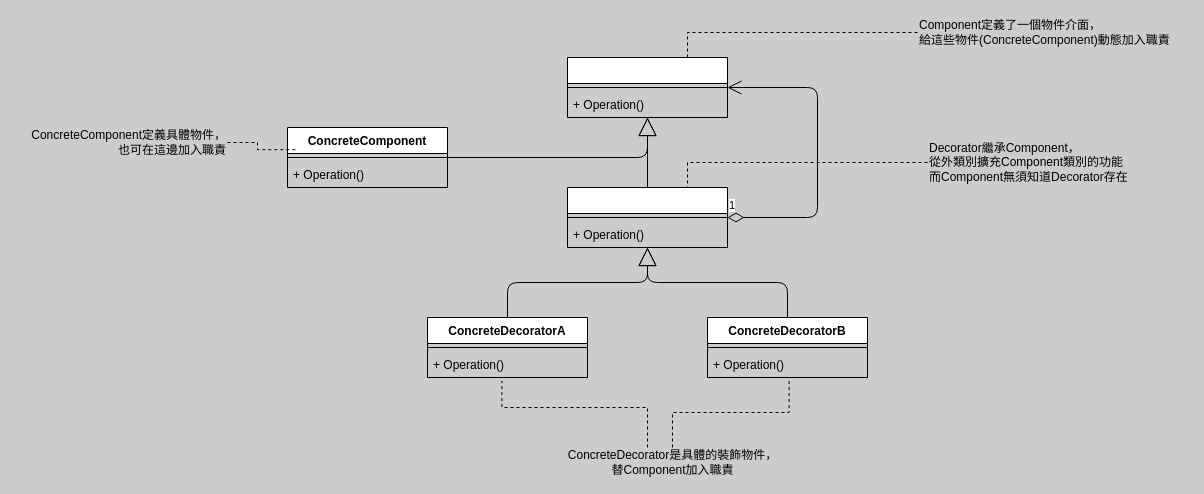
Some shapes in this 1204 by 494 pixel diagram are drawn without their labels. Each missing label, with the box of its shape:
Component: (566, 56, 728, 118)
Decorator: (566, 186, 728, 248)
